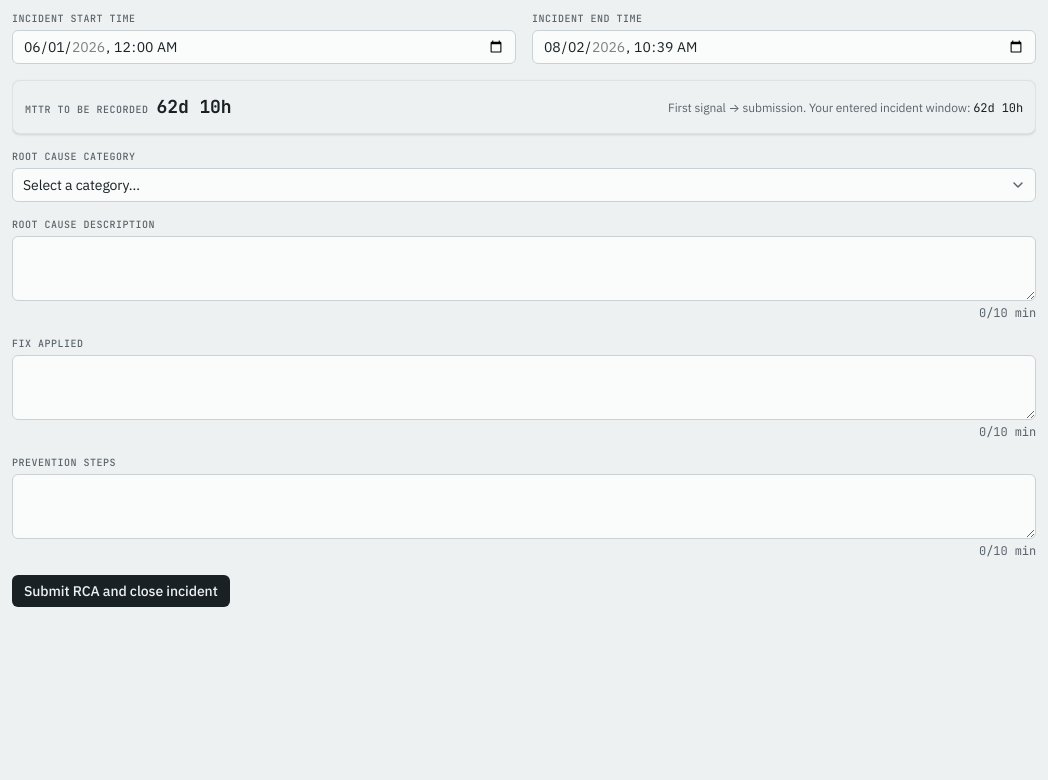
Test: RcaForm › blocks submit and focuses the first invalid field when required fields are missing
Click the button "Submit RCA and close incident" at [121, 591], box [12, 575, 230, 607]
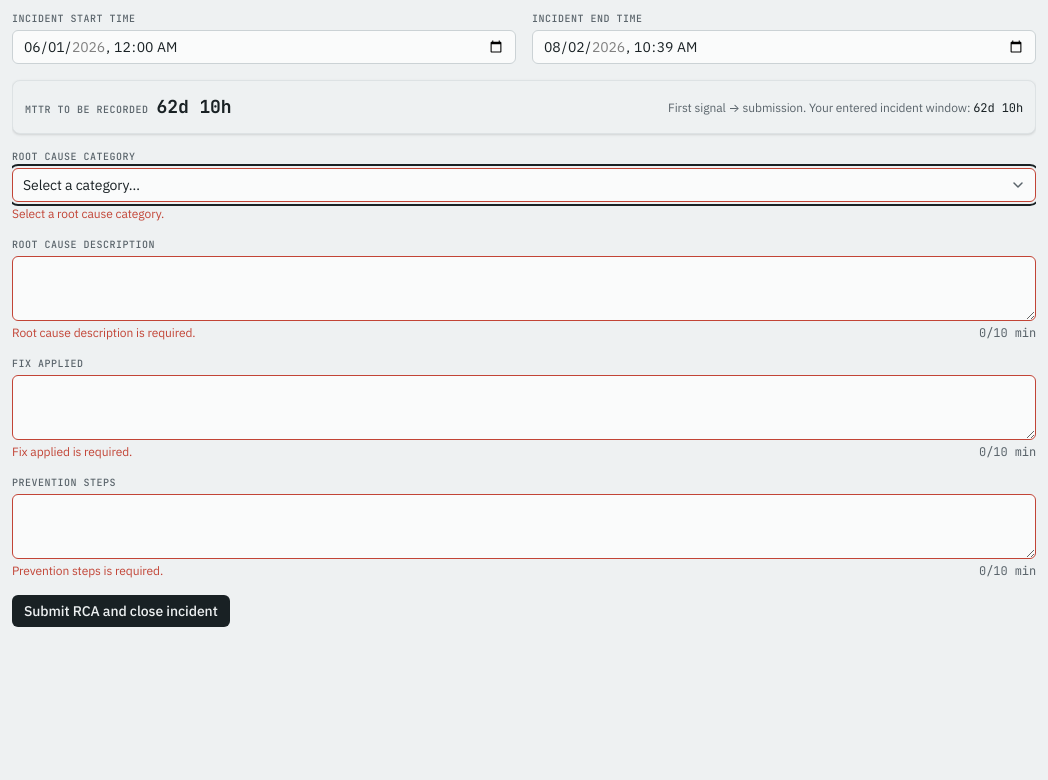
Result: the text "Select a root cause category." is shown at [12, 206, 164, 221]
